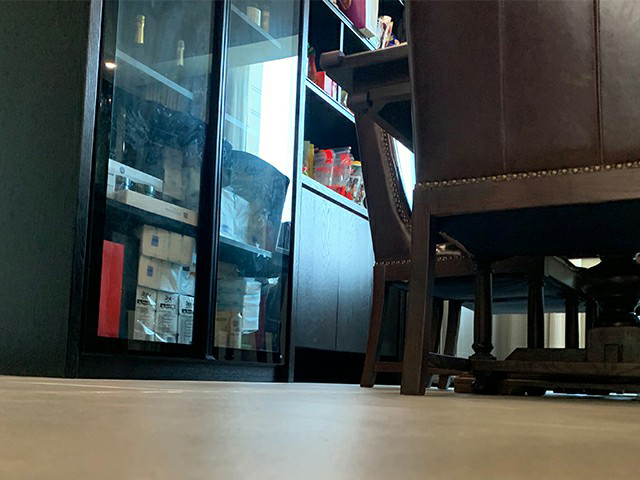cabinet: (1, 87, 348, 381)
stool: (400, 1, 640, 397), (355, 111, 581, 389)
